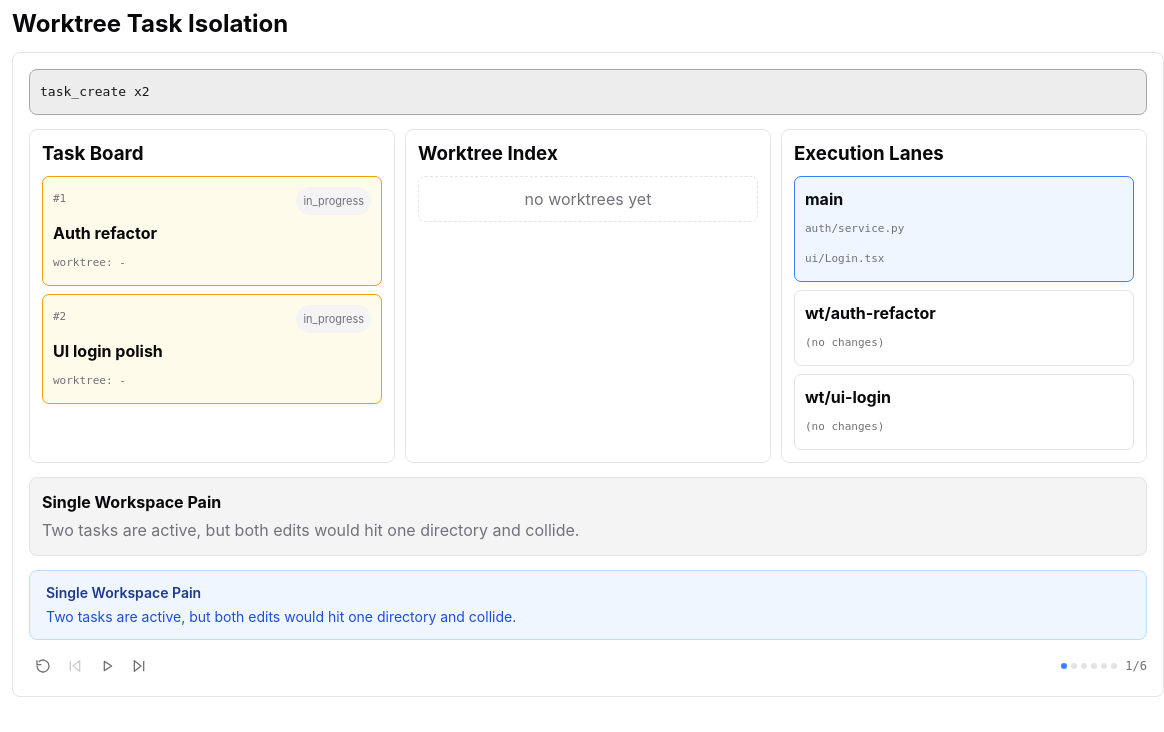
S18WorktreeIsolation › renders task-to-worktree lanes and isolated execution directories
This screenshot has width=1164, height=732.
Click the button titled "Next step": (139, 666) [125,652,153,680]
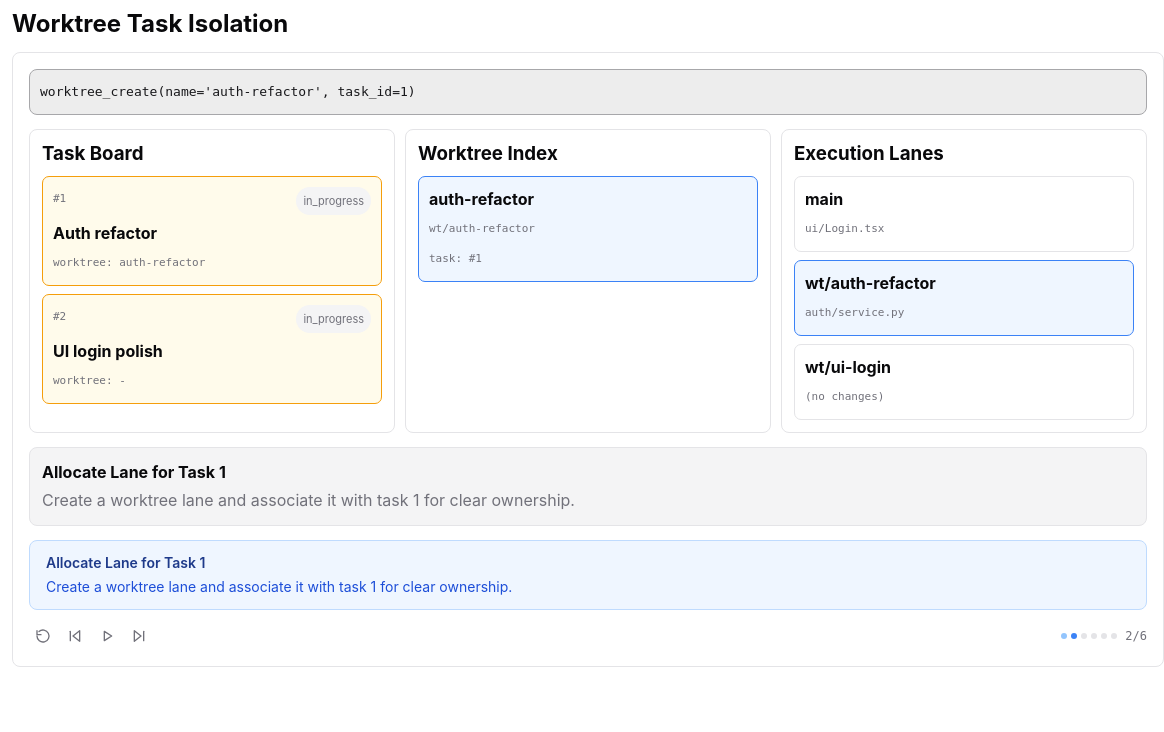
Expected: the text "auth-refactor" is shown, [40,84,416,99]
Result: the element showing "auth-refactor wt/auth-refactor task: #1" is shown at [418,176,758,282]
Click the button titled "Next step": (139, 636) [125,622,153,650]
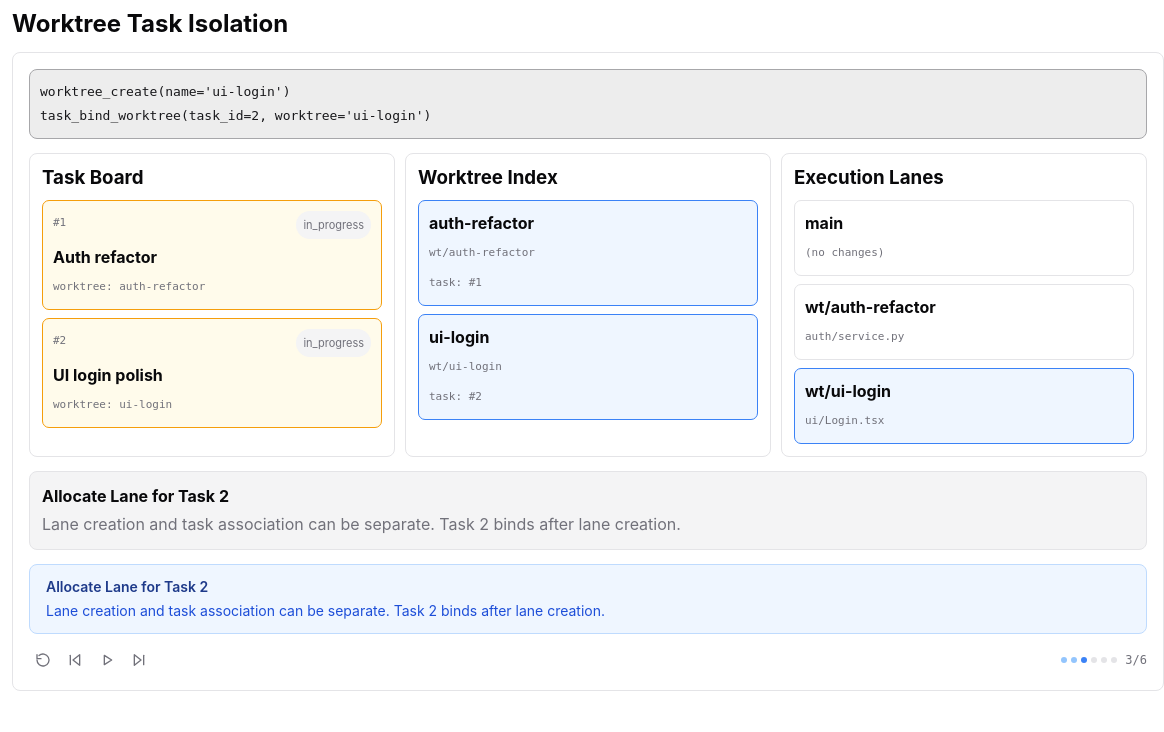
Expected: the text "ui-login" is shown, [40,84,431,123]
Result: the element showing "wt/ui-login ui/Login.tsx" is shown at [794,368,1134,444]
